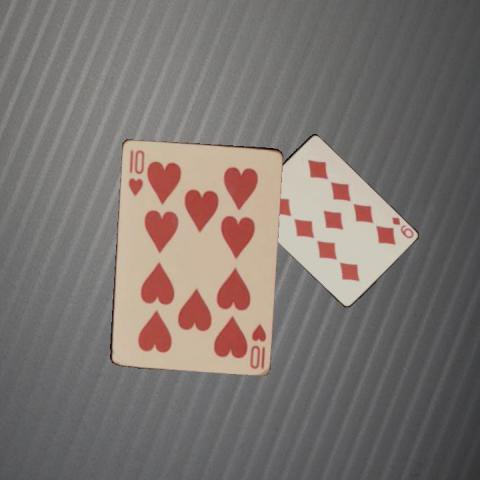10h: (125, 146, 146, 198), (247, 320, 267, 371)
9d: (388, 214, 414, 240)
